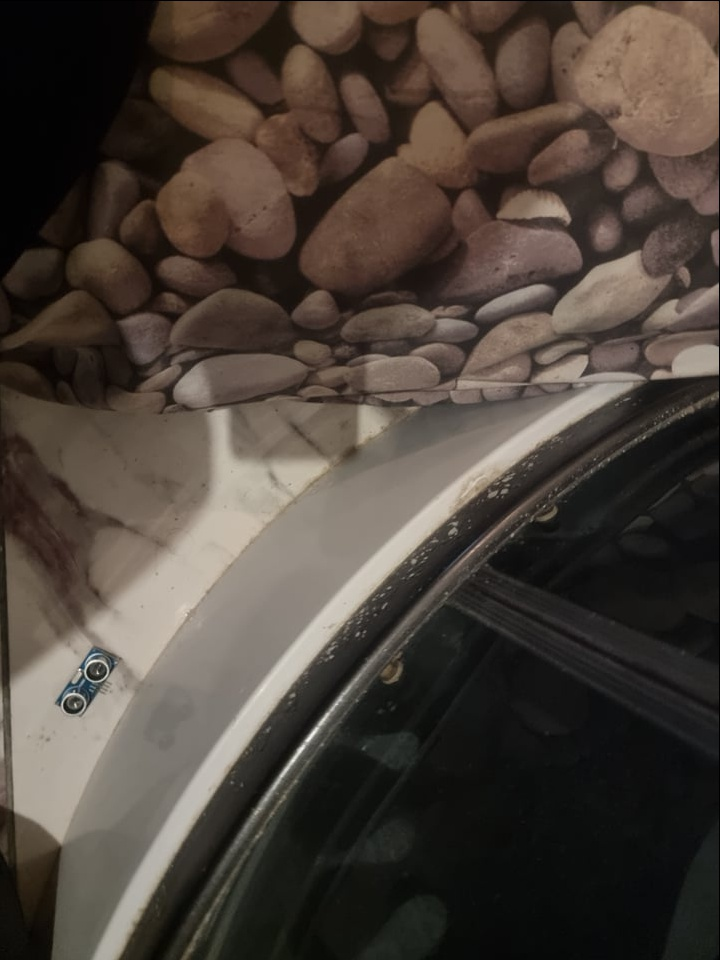SENSOR: (54, 646, 122, 718)
